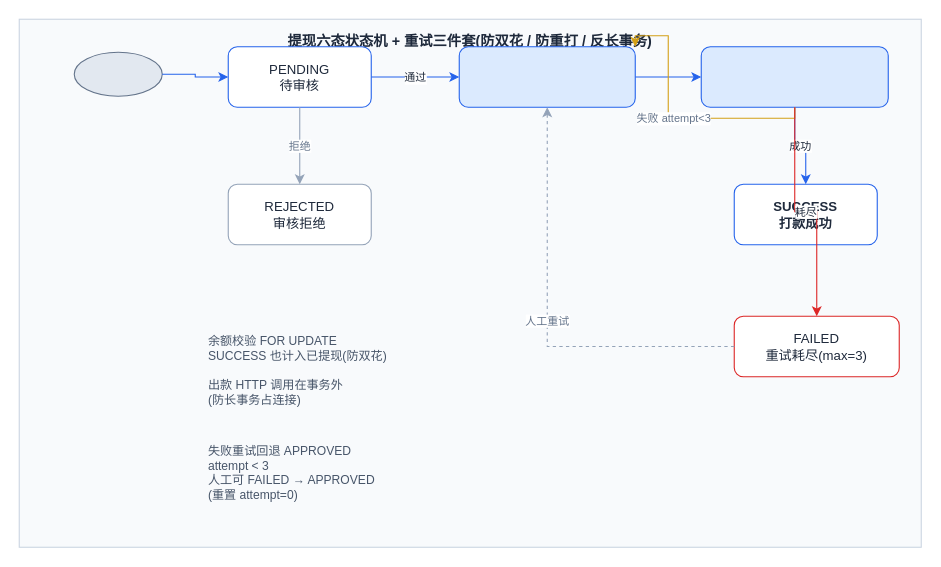
The diagram is 941 pixels wide and 567 high, and some of its shapes have lost their labels. Each missing label, with the centre of its shape:
"APPROVED 审核通过(条件更新)" goes at (546,76).
"PROCESSING 出款(乐观锁 attempt+1)" goes at (794,76).
"申请" goes at (117,73).
